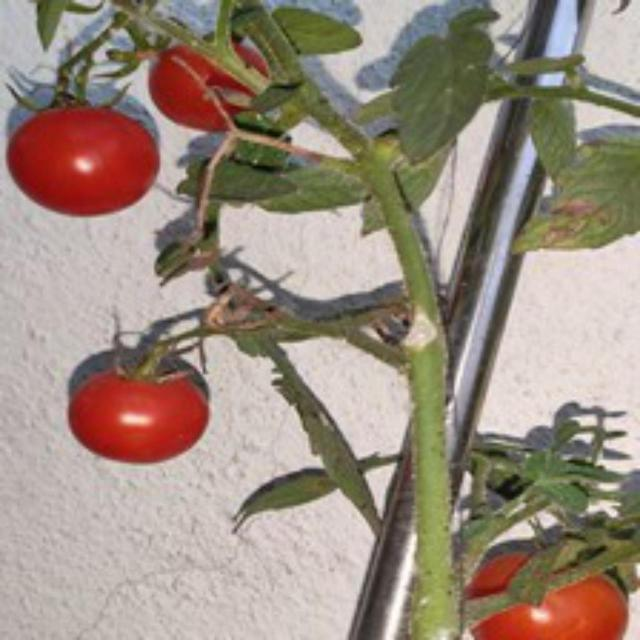tomato: (13, 93, 157, 222), (62, 350, 212, 468), (466, 531, 631, 637), (160, 19, 274, 138)
